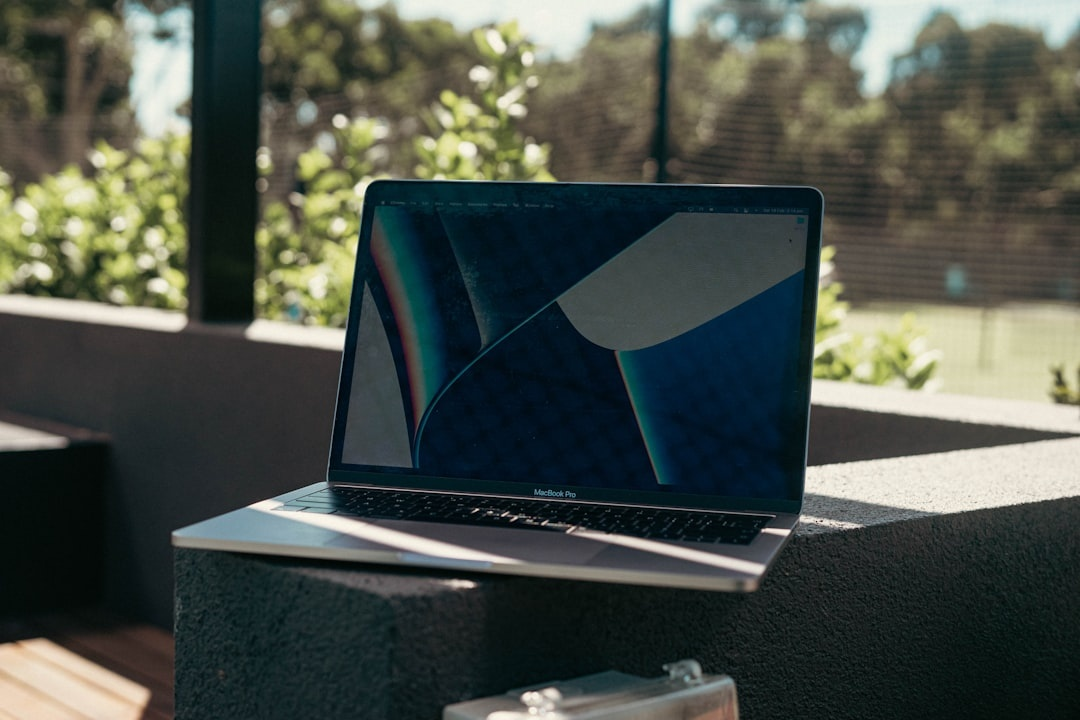laptop: (142, 121, 863, 606)
